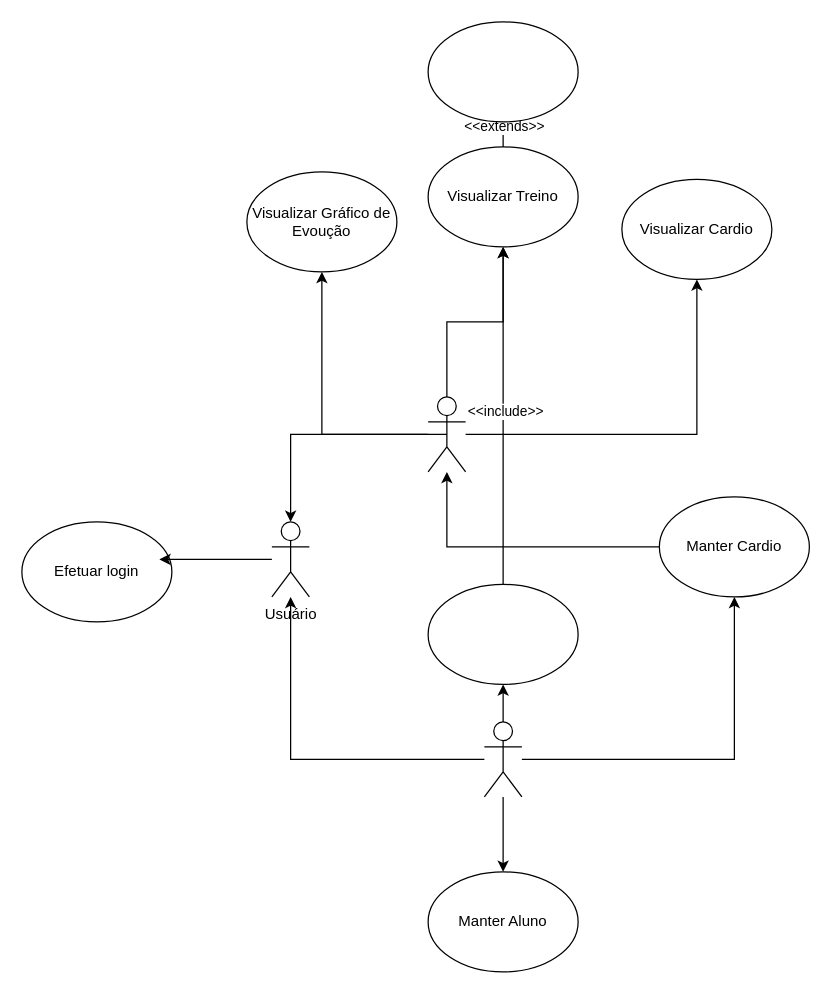
Image size: 831x994. Some labels were removed from this diagram. The box of each missing label's shape, as (x1, y1, x2, y2) in pixels:
Aluno: (427, 396, 466, 472)
Instrutor: (483, 721, 522, 797)
Manter Lista de Treino: (427, 583, 578, 684)
Visualizar Exercícios: (427, 21, 578, 122)
